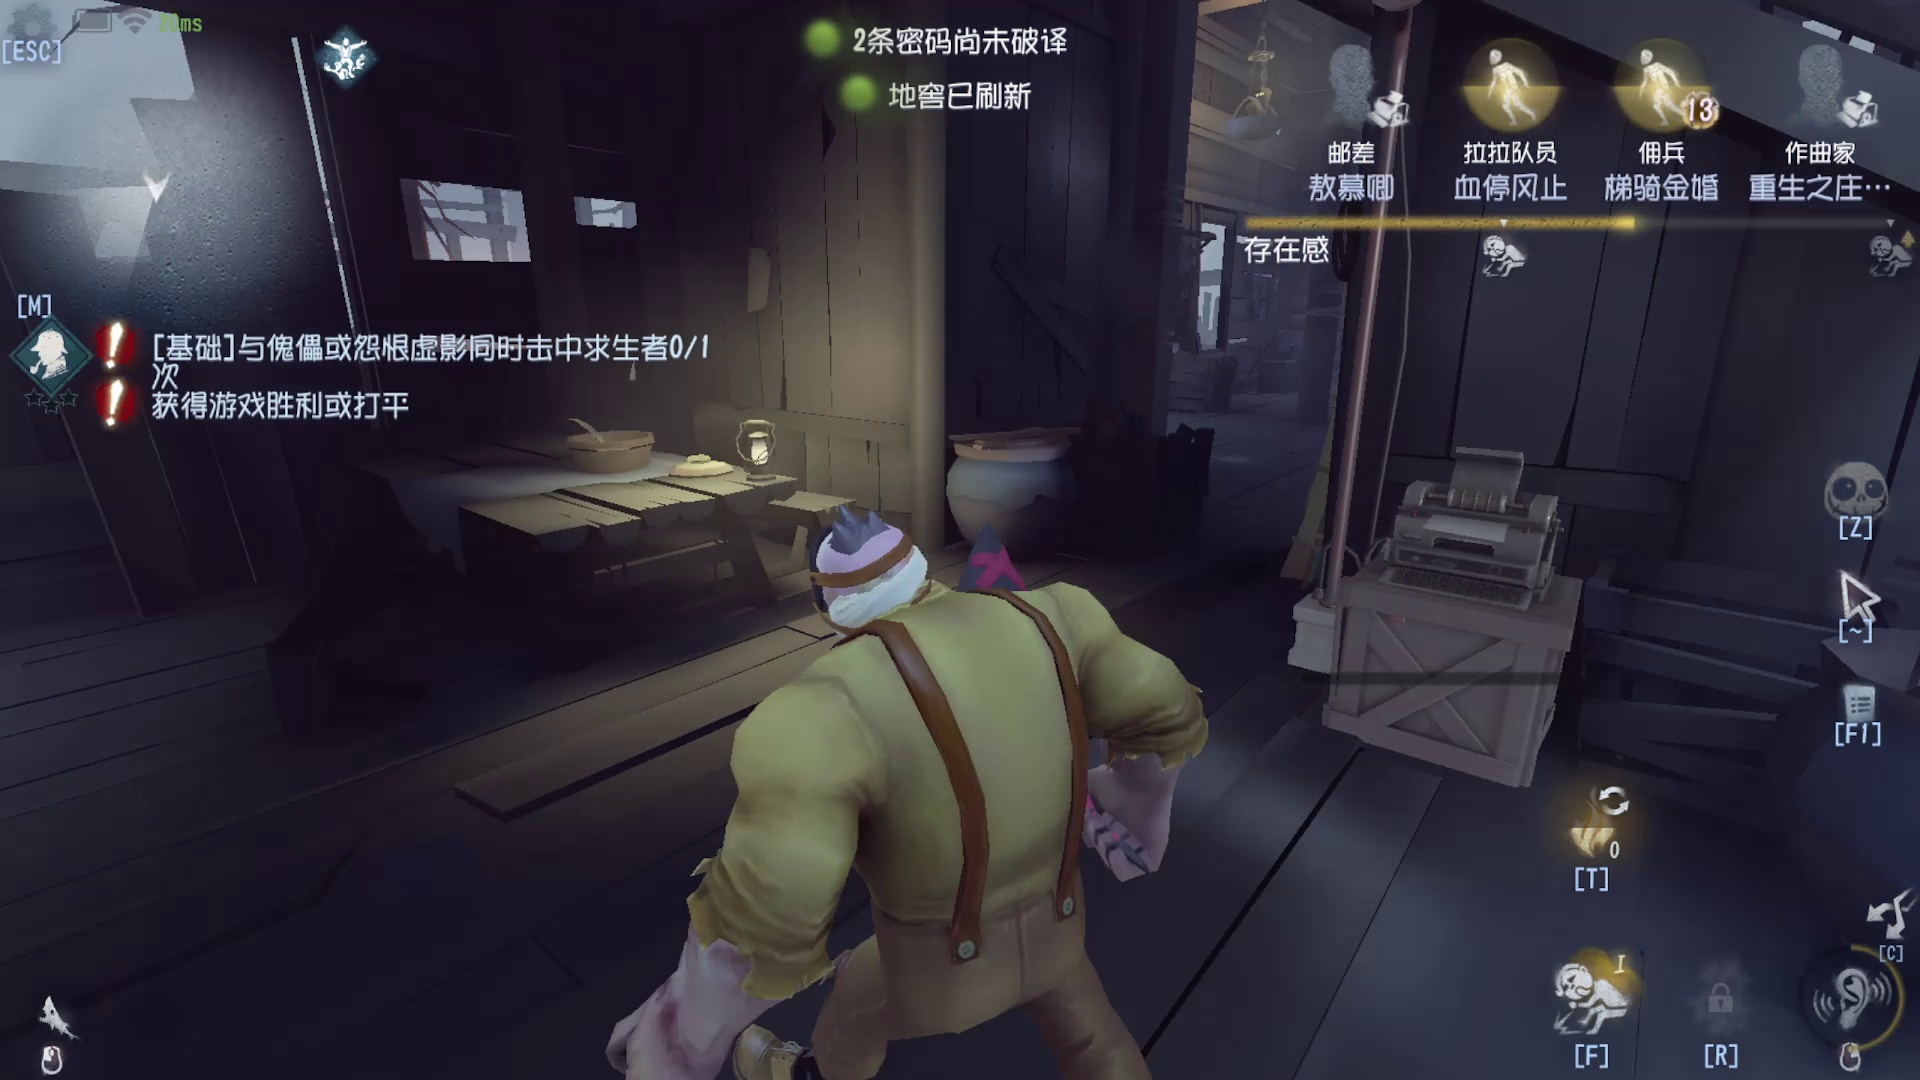密码机: (1246, 311, 1642, 740)
